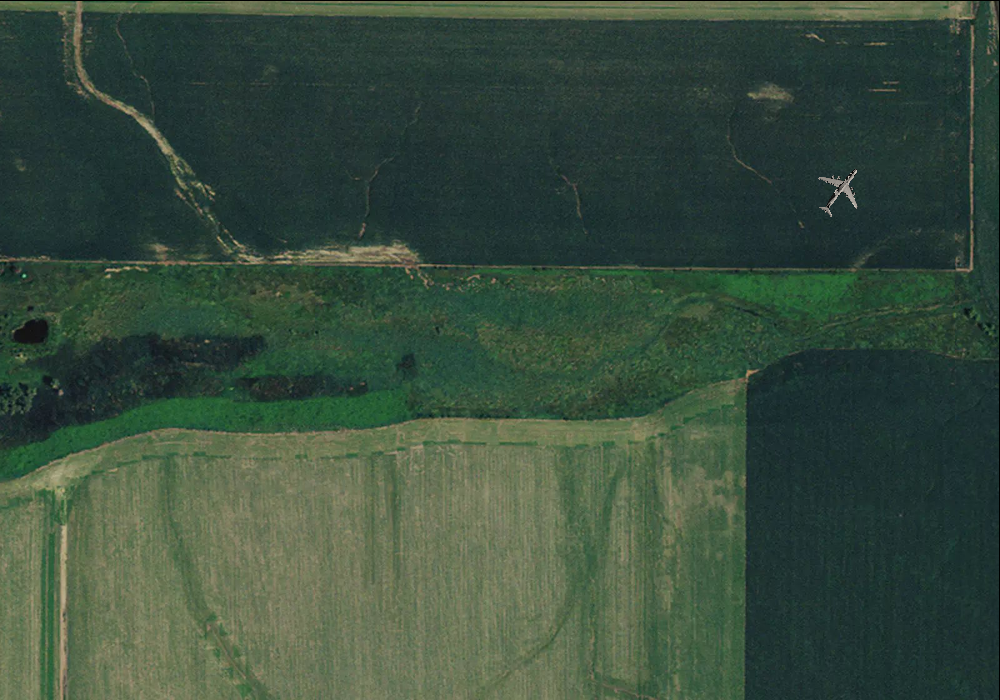plane: (803, 153, 878, 228)
